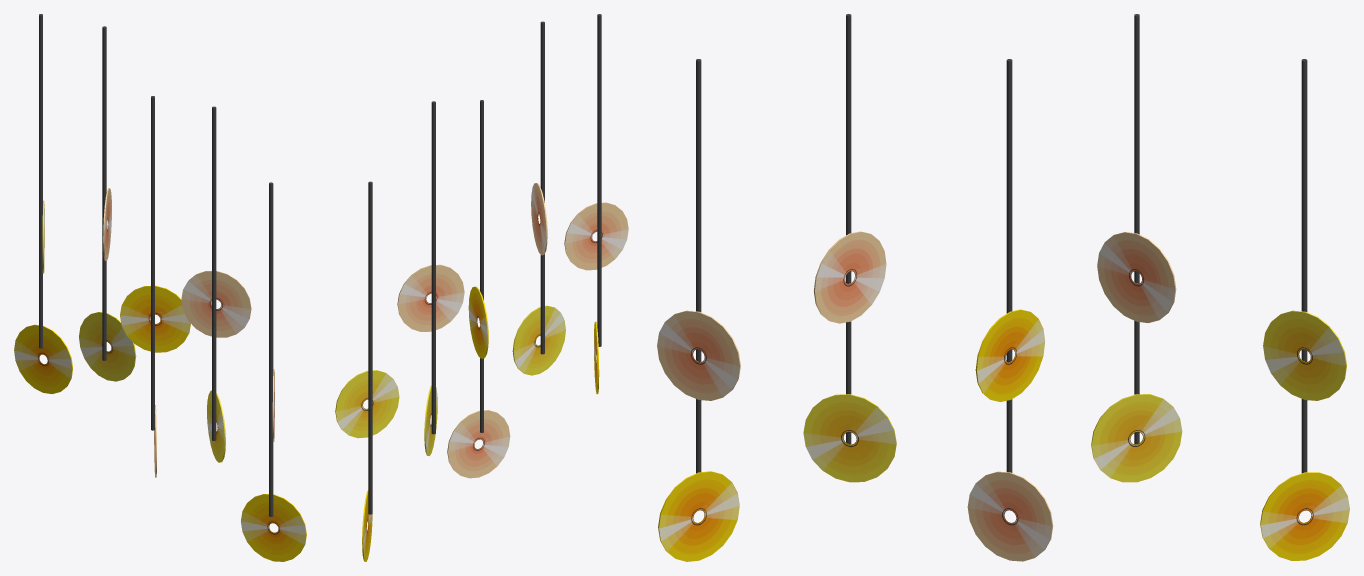
Rendered from Hanging Disks.fbx.
3 views of the same model, side by side, from view 1: azimuth 30°, elevation 25°; view 2: azimuth 150°, elevation 25°; view 3: azimuth 270°, elevation 25° (orthographic). The views are drawn at different scales.
Visible parts, largest first — view 1: pCylinder13, pCylinder14, pCylinder21, pCylinder17, pCylinder19, pCylinder26, pCylinder22, pCylinder25, pCylinder23, pCylinder24, pCylinder12, pCylinder18; view 2: pCylinder18, pCylinder15, pCylinder20, pCylinder16, pCylinder12, pCylinder24, pCylinder25, pCylinder22, pCylinder26, pCylinder14, pCylinder23, pCylinder13 (+2 smaller); view 3: pCylinder12, pCylinder19, pCylinder17, pCylinder15, pCylinder16, pCylinder20, pCylinder21, pCylinder18, pCylinder13, pCylinder14, pCylinder24, pCylinder23 (+3 smaller).
Part boxes in pixels (x1,y1,x2,y2): pCylinder13: (181,270,251,337); pCylinder14: (120,285,190,352); pCylinder21: (241,494,306,561); pCylinder17: (14,324,72,393); pCylinder19: (79,312,136,381); pCylinder26: (212,106,216,440); pCylinder22: (269,182,273,516); pCylinder25: (102,26,106,360); pCylinder23: (151,96,154,430); pCylinder24: (39,14,42,348); pCylinder12: (207,390,225,462); pCylinder18: (103,188,111,260); pCylinder18: (397,264,464,331); pCylinder15: (447,410,510,478); pCylinder20: (564,202,628,270); pCylinder16: (335,370,399,438); pCylinder12: (512,305,565,375); pCylinder24: (368,181,372,514); pCylinder25: (431,101,435,434); pCylinder22: (597,14,601,346); pCylinder26: (540,21,544,354); pCylinder14: (468,286,488,358); pCylinder23: (480,100,483,432); pCylinder13: (531,183,547,255); pCylinder12: (803,394,896,482); pCylinder19: (1091,394,1182,482); pCylinder17: (1260,472,1349,560); pCylinder15: (967,471,1053,561); pCylinder16: (1263,310,1346,400); pCylinder20: (657,310,740,400); pCylinder21: (658,471,739,561); pCylinder18: (1097,232,1176,322); pCylinder13: (814,231,886,323); pCylinder14: (975,309,1045,401); pCylinder24: (1301,59,1307,473); pCylinder23: (1006,59,1012,472).
Bounding box in the file's own units: 1.28 × 11.02 × 12.73.
